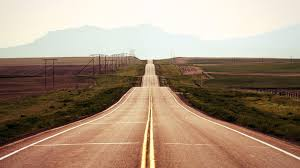strada: (5, 86, 299, 167)
